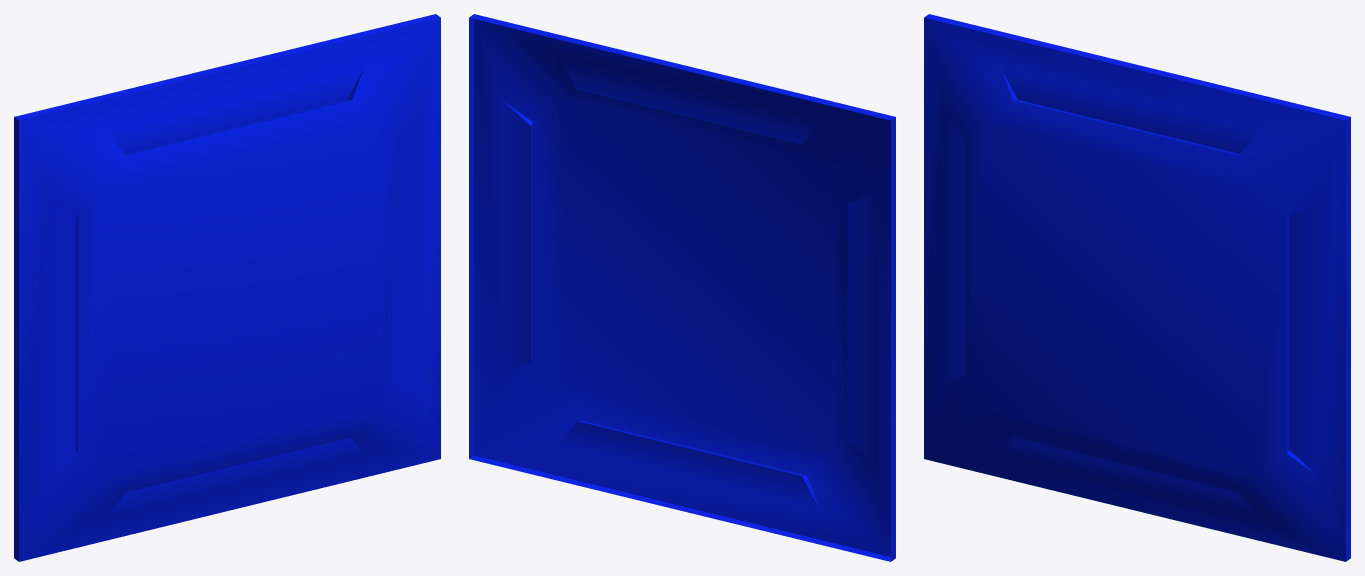
The model's file is Airconditioner.FBX.
3 renders of one model, left to right at view 1: azimuth 30°, elevation 25°; view 2: azimuth 150°, elevation 25°; view 3: azimuth 330°, elevation 25°, orthographic.
Visible parts, largest first — view 1: Stock_LP003; view 2: Stock_LP003; view 3: Stock_LP003.
Part boxes in pixels (box(x1,y1,x2,y2)): Stock_LP003: box(14, 14, 440, 561); Stock_LP003: box(469, 14, 895, 561); Stock_LP003: box(924, 14, 1350, 561).
Bounding box in the file's own units: 55 × 55 × 4.21.
